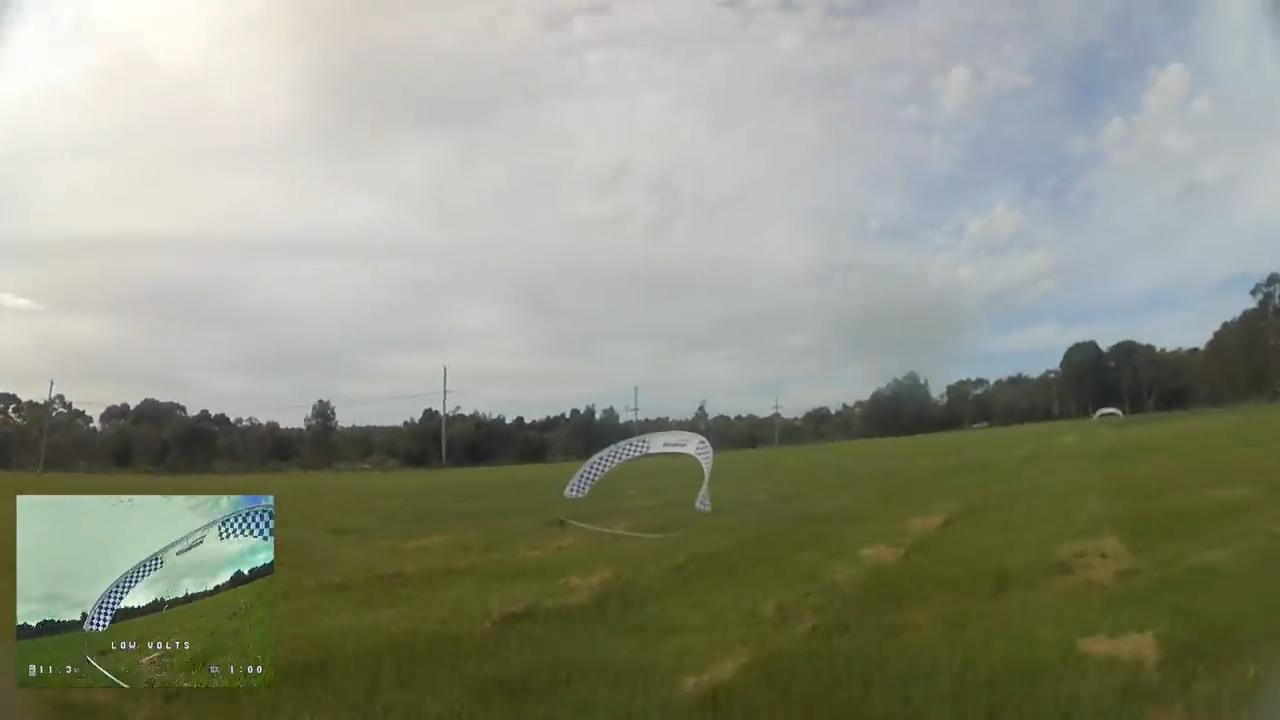gate: (563, 428, 718, 521)
